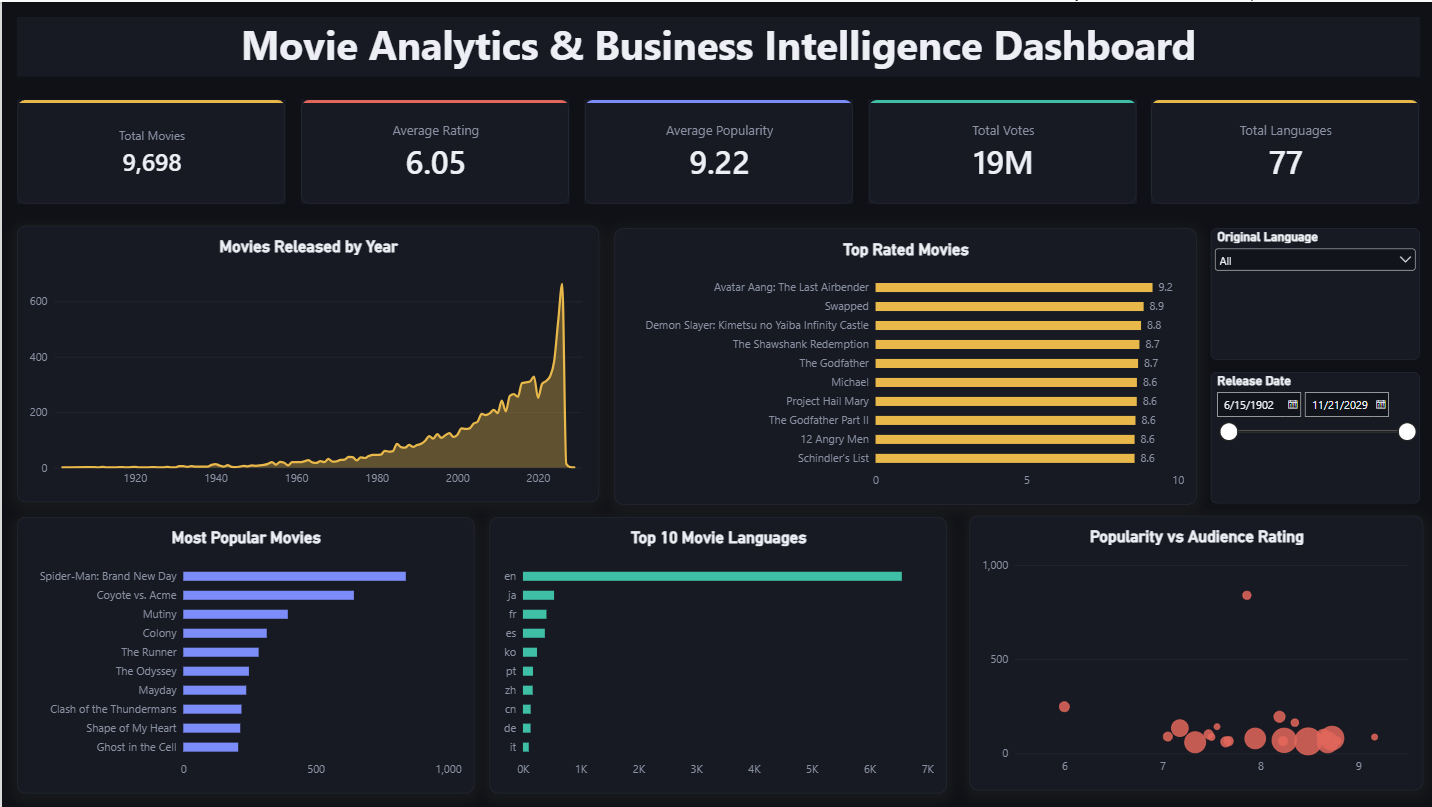

This screenshot's page, from the dashboard's own definition file:
{"tool":"powerbi","page":{"name":"Page 1","canvas":[1920,1080],"ordinal":0},"visuals":[{"type":"textbox","box":[20,20,1880,80],"z":0},{"type":"cardVisual","fields":{"Data":["movies.Total Movies"]},"box":[20,130,360,140],"z":1000},{"type":"cardVisual","fields":{"Data":["movies.Average Rating"]},"box":[400,130,360,140],"z":2000},{"type":"cardVisual","fields":{"Data":["movies.Average Popularity"]},"box":[780,130,360,140],"z":3000},{"type":"cardVisual","fields":{"Data":["movies.Total Votes"]},"box":[1160,130,360,140],"z":4000},{"type":"cardVisual","fields":{"Data":["movies.Total Languages","movies.Total Languages"]},"box":[1540,130,360,140],"z":5000},{"type":"lineChart","title":"Movies Released by Year","fields":{"Category":["movies.release_date.Variation.Date Hierarchy.Year"],"Y":["movies.Total Movies"]},"box":[20,300,780,370],"z":6000},{"type":"barChart","title":"Top Rated Movies","fields":{"Category":["movies.title"],"Y":["Avg(movies.vote_average)"]},"box":[820,304,780,370],"z":7000},{"type":"clusteredBarChart","title":"Most Popular Movies","fields":{"Category":["movies.title"],"Y":["movies.Average Popularity"]},"box":[20,690,613,370],"z":8000},{"type":"clusteredBarChart","title":"Top 10 Movie Languages","fields":{"Category":["movies.original_language"],"Y":["movies.Total Movies"]},"box":[653,690,613,370],"z":9000},{"type":"slicer","fields":{"Values":["movies.release_date"]},"box":[1620,496,280,176],"z":10000},{"type":"slicer","fields":{"Values":["movies.original_language"]},"box":[1620,304,280,176],"z":11000},{"type":"scatterChart","title":"Popularity vs Audience Rating","fields":{"Category":["movies.title"],"Size":["Sum(movies.vote_count)"],"X":["Avg(movies.vote_average)"],"Y":["Avg(movies.popularity)"]},"box":[1296,688,608,368],"z":12000}]}

Visuals, with their boxes in screenshot pixels (x1, y1, x2, y2), scaled from the page's 1920x1080 canvas onto the 1432x807 screenshot:
textbox: 15,15,1417,75
cardVisual - movies.Total Movies: 15,97,283,202
cardVisual - movies.Average Rating: 298,97,567,202
cardVisual - movies.Average Popularity: 582,97,850,202
cardVisual - movies.Total Votes: 865,97,1134,202
cardVisual - movies.Total Languages x movies.Total Languages: 1149,97,1417,202
"Movies Released by Year" lineChart: 15,224,597,501
"Top Rated Movies" barChart: 612,227,1193,504
"Most Popular Movies" clusteredBarChart: 15,516,472,792
"Top 10 Movie Languages" clusteredBarChart: 487,516,944,792
slicer - movies.release_date: 1208,371,1417,502
slicer - movies.original_language: 1208,227,1417,359
"Popularity vs Audience Rating" scatterChart: 967,514,1420,789
